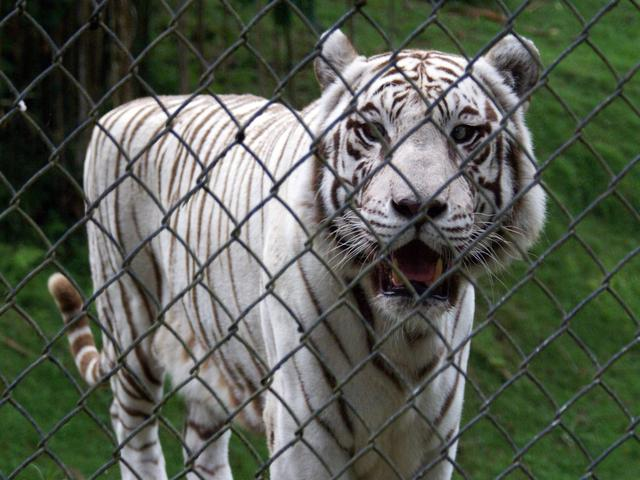tiger: (49, 25, 572, 459)
